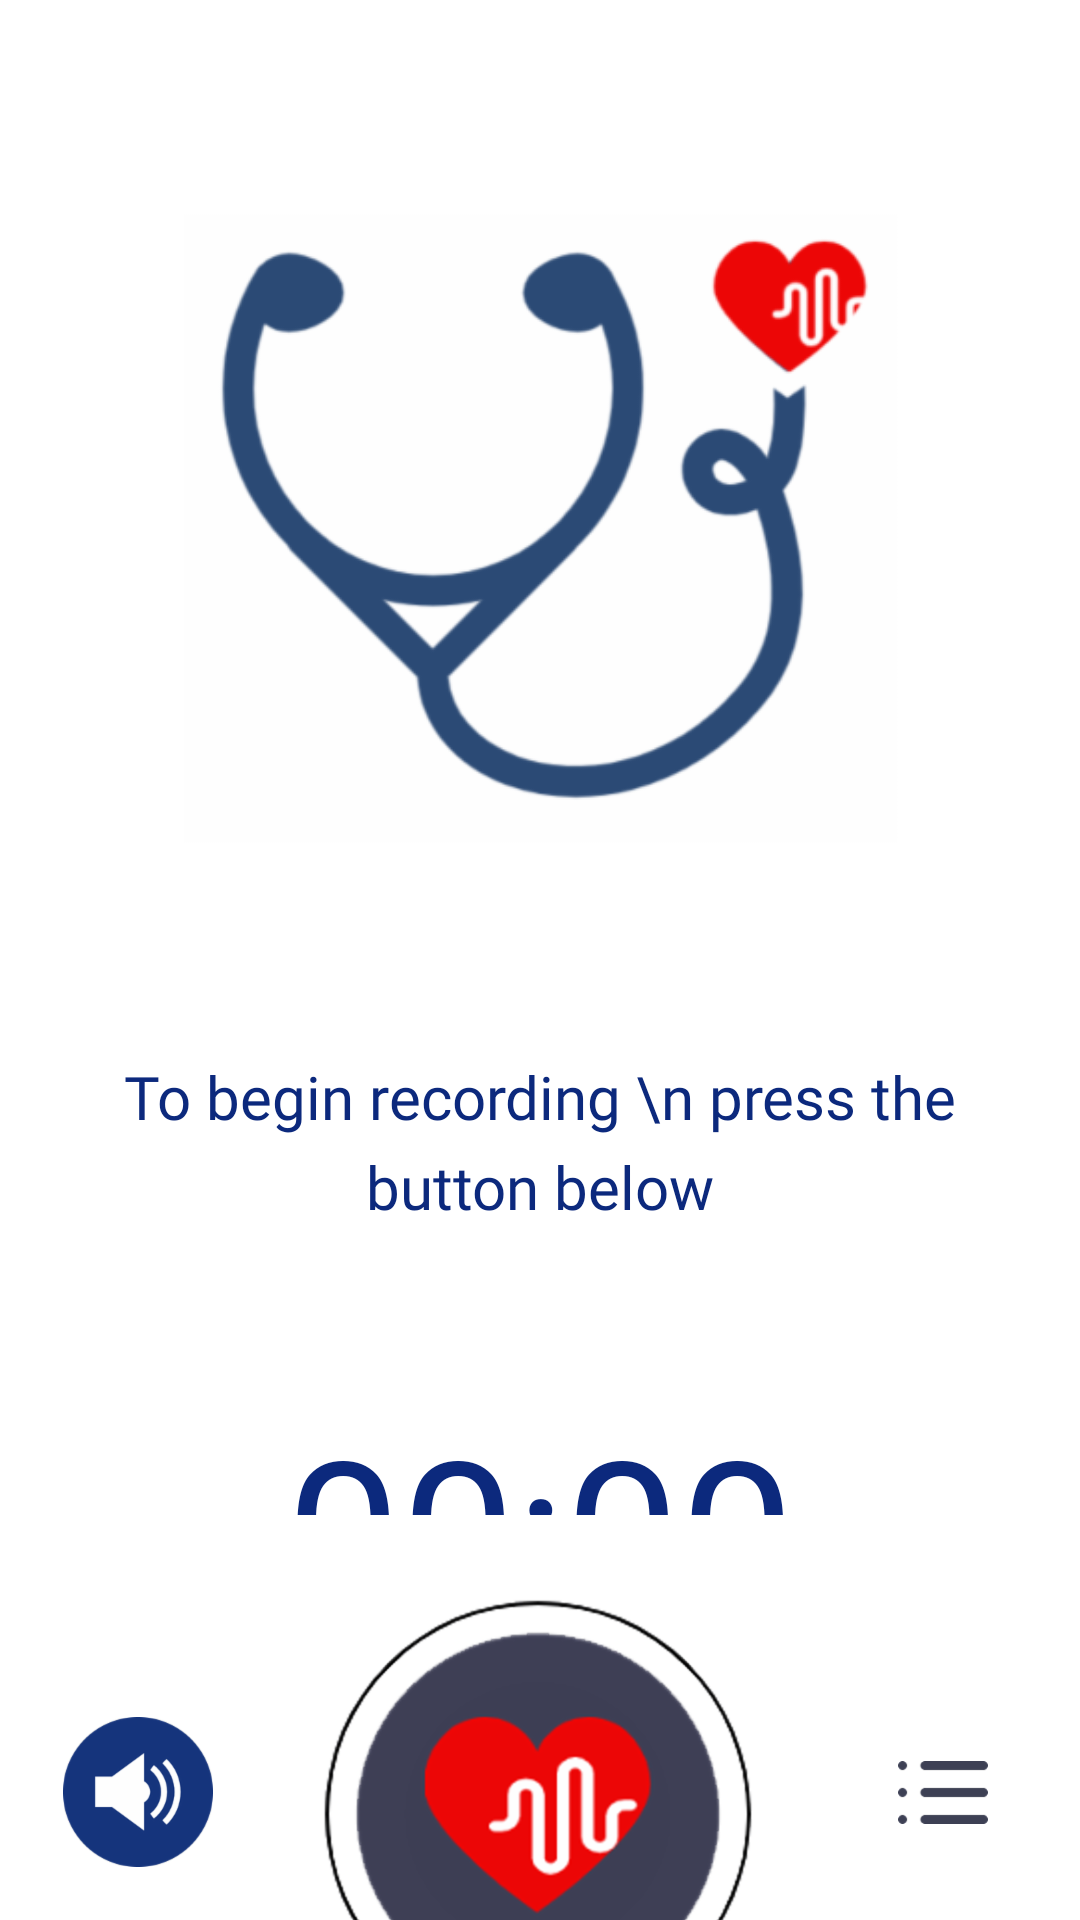

Icons on this 1080w x 1920h Android screen, each with the point to tap as point (x, y):
recorder list: point (943, 1792)
